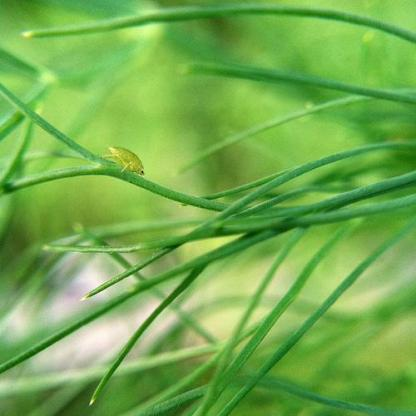aphid: (100, 140, 156, 180)
